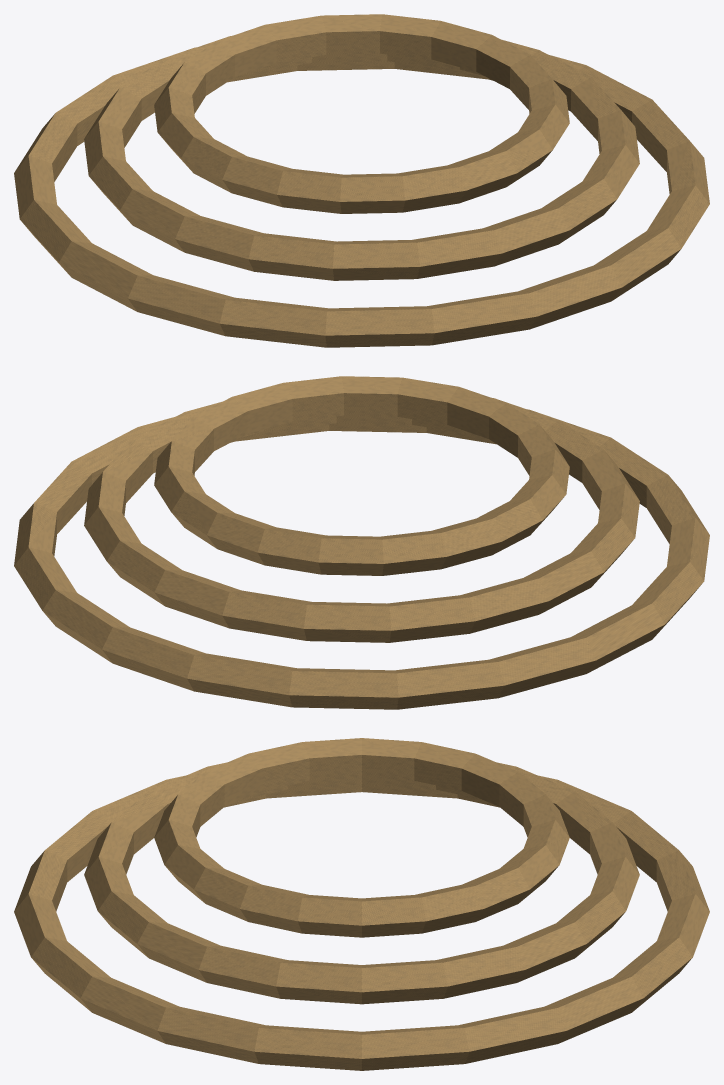
The model's file is ax-com-004_cable_coil__coiled.obj.
The picture shows the model from 3 angles, top to bottom: view 1: azimuth 30°, elevation 25°; view 2: azimuth 150°, elevation 25°; view 3: azimuth 270°, elevation 25°; orthographic projection.
Parts seen in each view (by area): view 1: ax-com-004_cable_coil__coiled; view 2: ax-com-004_cable_coil__coiled; view 3: ax-com-004_cable_coil__coiled.
Boxes of the visible parts, x1,y1,x2,y2 form: ax-com-004_cable_coil__coiled: [14, 14, 709, 347]; ax-com-004_cable_coil__coiled: [14, 376, 709, 709]; ax-com-004_cable_coil__coiled: [14, 738, 709, 1070].
Bounding box in the file's own units: 0.596 × 0.1042 × 0.596.
1 material, 1 textured.
